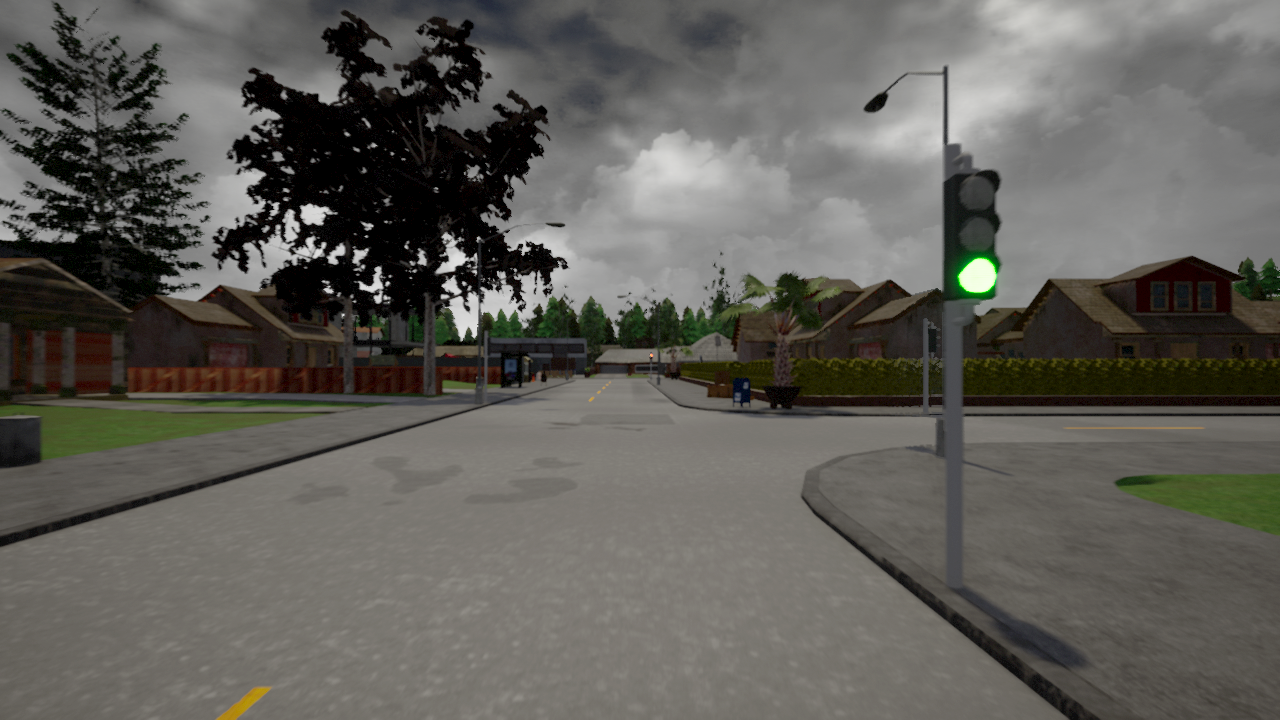green: (944, 164, 1000, 307)
